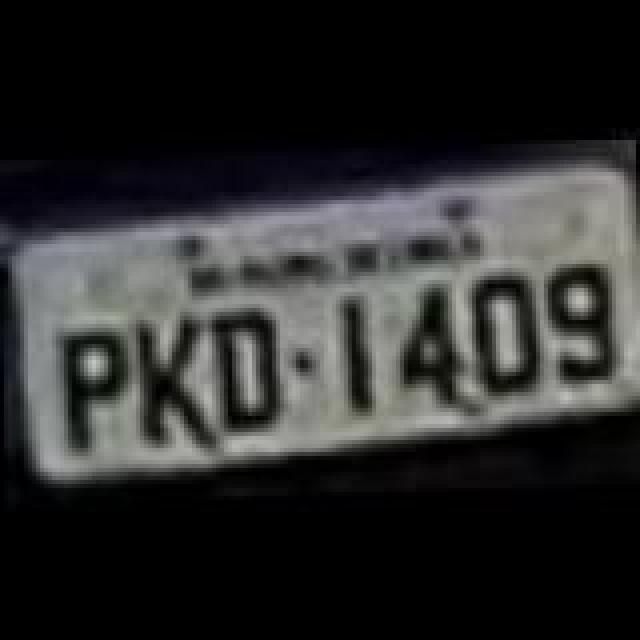1: (334, 294, 386, 418)
4: (390, 278, 474, 410)
9: (536, 254, 616, 386)
D: (212, 300, 284, 436)
K: (128, 308, 216, 452)
O: (468, 270, 540, 402)
P: (58, 320, 134, 448)
